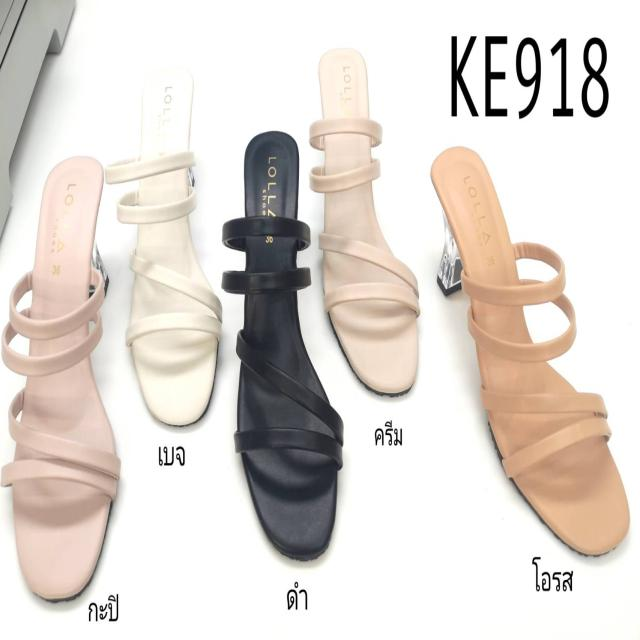bej: (118, 71, 225, 428)
black: (222, 130, 339, 552)
cream: (312, 46, 419, 396)
kapi: (3, 154, 120, 606)
orot: (430, 150, 632, 560)
